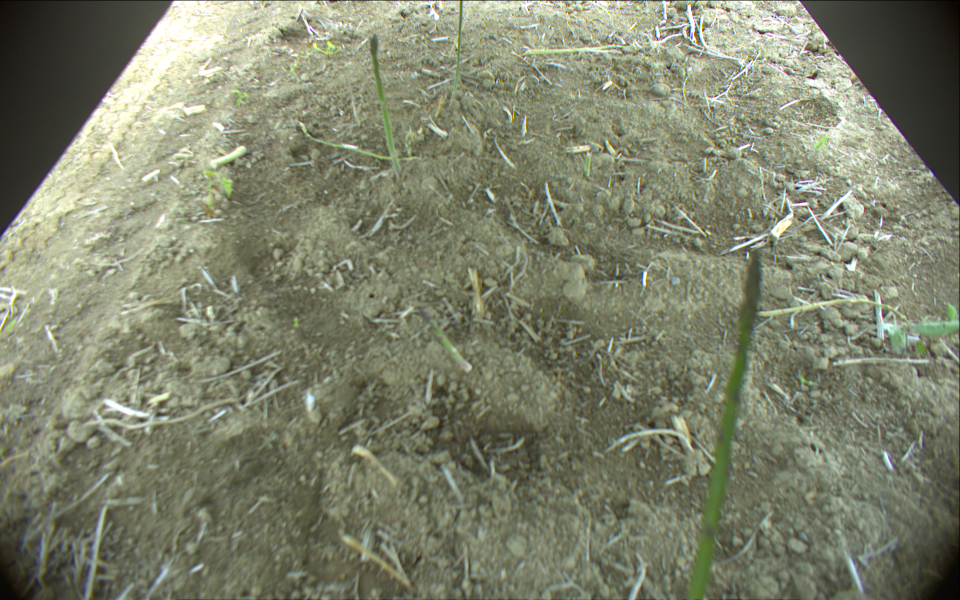aspa: (677, 250, 764, 600), (302, 116, 415, 162), (368, 36, 402, 176), (416, 310, 475, 372), (450, 1, 469, 108), (526, 42, 631, 59), (210, 143, 247, 168)
